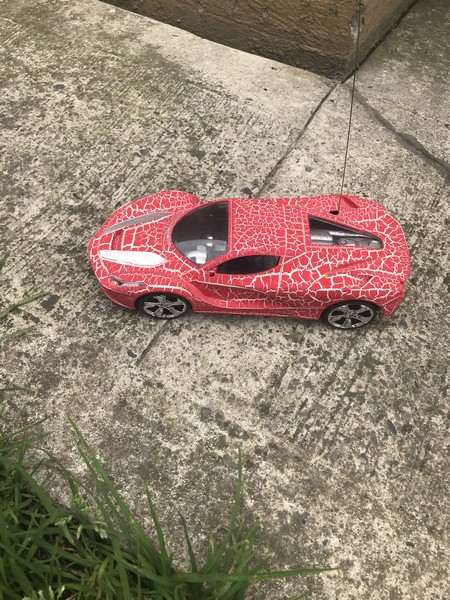RC: (86, 188, 414, 332)
